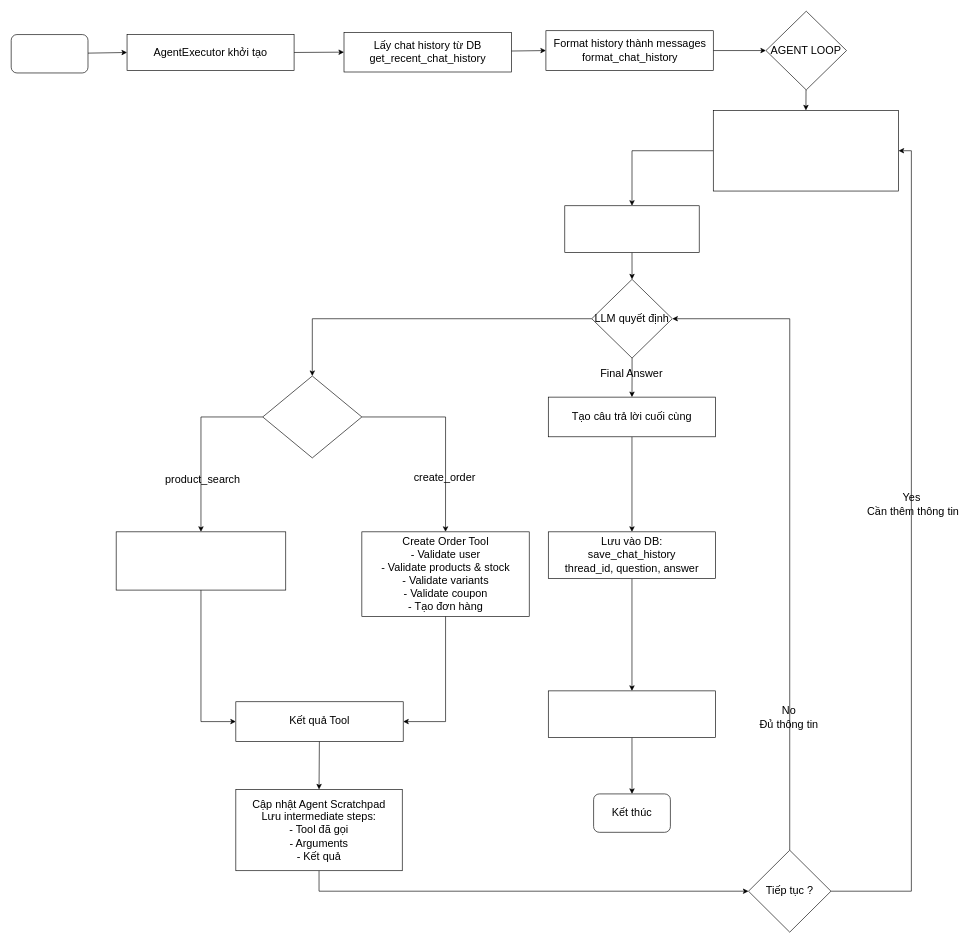
Some shapes in this 970 by 943 pixel diagram are drawn without their labels. Each missing label, with the centre of its shape:
Chọn Tool nào ?: [312,416]
Gọi ChatOpenAI gpt-4o-mini temperature=0: [631,228]
Product Search Tool - Tìm theo tên - Tìm theo budget - Lấy tất cả sản phẩm: [201,560]
Trả về response cho user: [632,714]
User query: [49,53]
Xây dựng Prompt: - System message - Chat history - User input - Agent scratchpad: [806,150]
